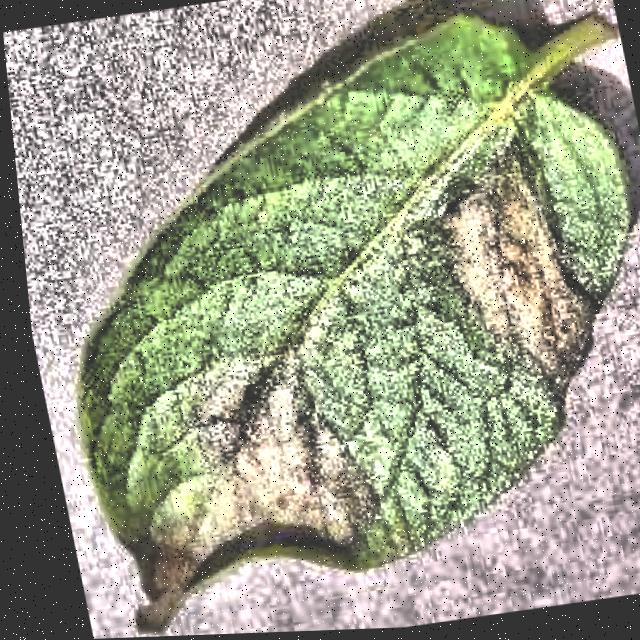Potato_leaf_late_blight: (61, 5, 640, 637)
